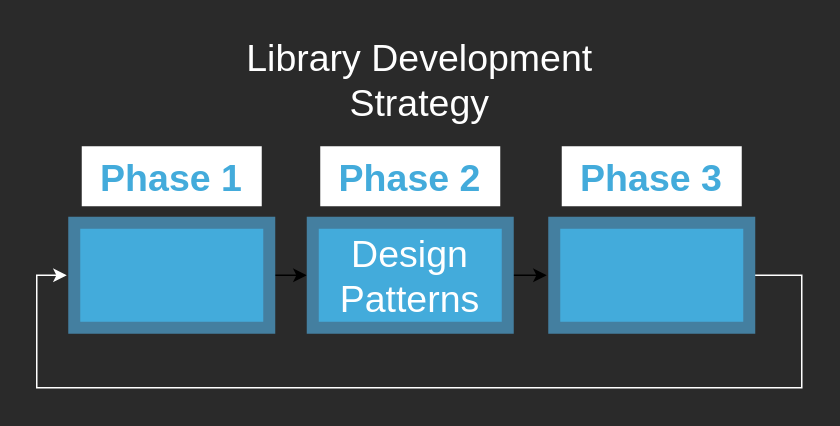
Image size: 840x426. Some labels were removed from this diagram. The centre of each missing label's shape, as x and y in pixels:
"Iteration" belongs at pixel 651 274.
"Research" belongs at pixel 171 274.
